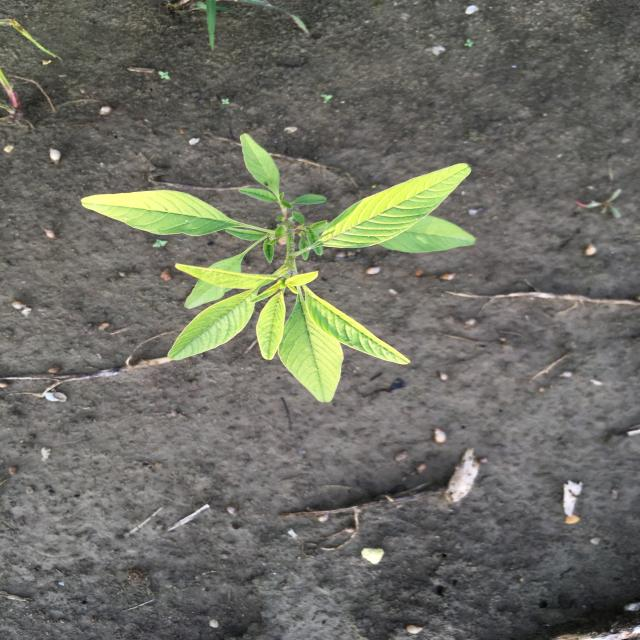Waterhemp: (78, 131, 478, 405)
